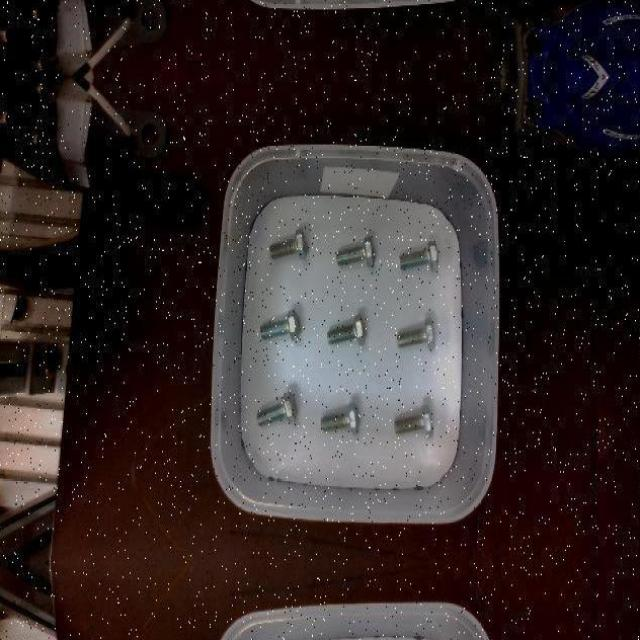screw: (257, 390, 298, 425), (260, 307, 300, 341), (326, 314, 366, 346), (322, 401, 360, 433), (336, 236, 375, 267), (399, 240, 438, 271), (393, 403, 432, 434), (397, 318, 434, 350), (269, 229, 307, 260)
